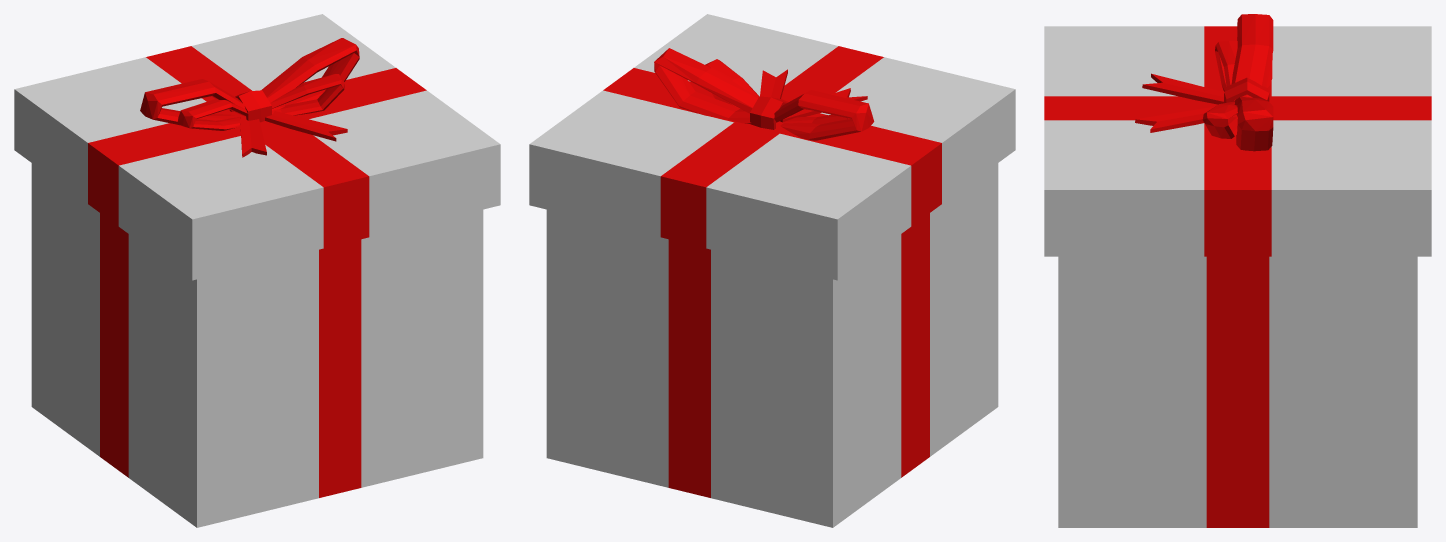
The model's file is Present.fbx.
3 renders of one model, left to right at view 1: azimuth 30°, elevation 25°; view 2: azimuth 150°, elevation 25°; view 3: azimuth 270°, elevation 25°, orthographic. The views are drawn at different scales.
Visible parts, largest first — view 1: Presemt; view 2: Presemt; view 3: Presemt.
Part boxes in pixels (x1,y1,x2,y2): Presemt: (14, 14, 500, 527); Presemt: (529, 14, 1015, 527); Presemt: (1044, 14, 1431, 527).
Size of the model in its own units: 73.17 by 82.06 by 73.17.
